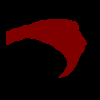mutande: (6, 19, 87, 78)
